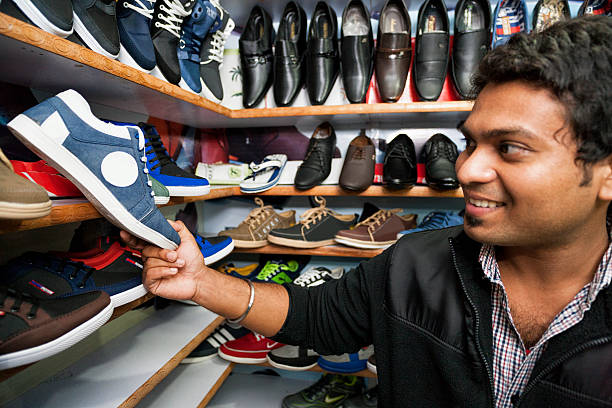Footwear: (5, 87, 183, 253)
